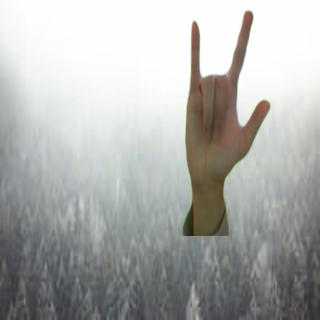ILY: (180, 7, 274, 189)
